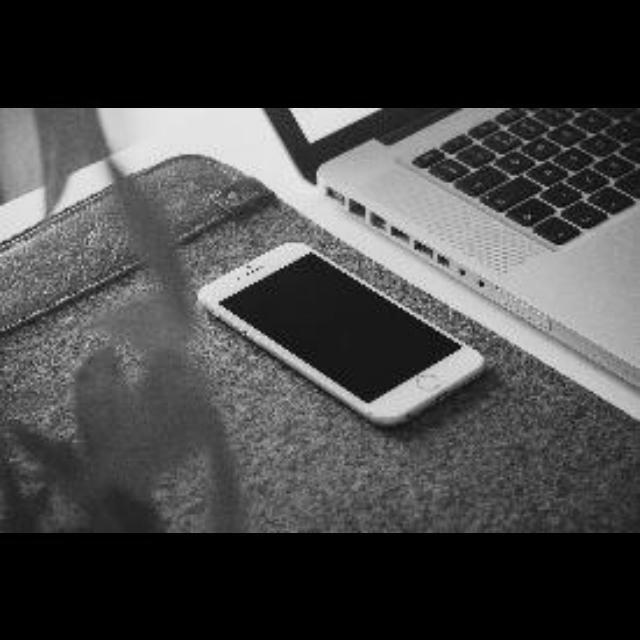fake: (188, 230, 498, 438)
